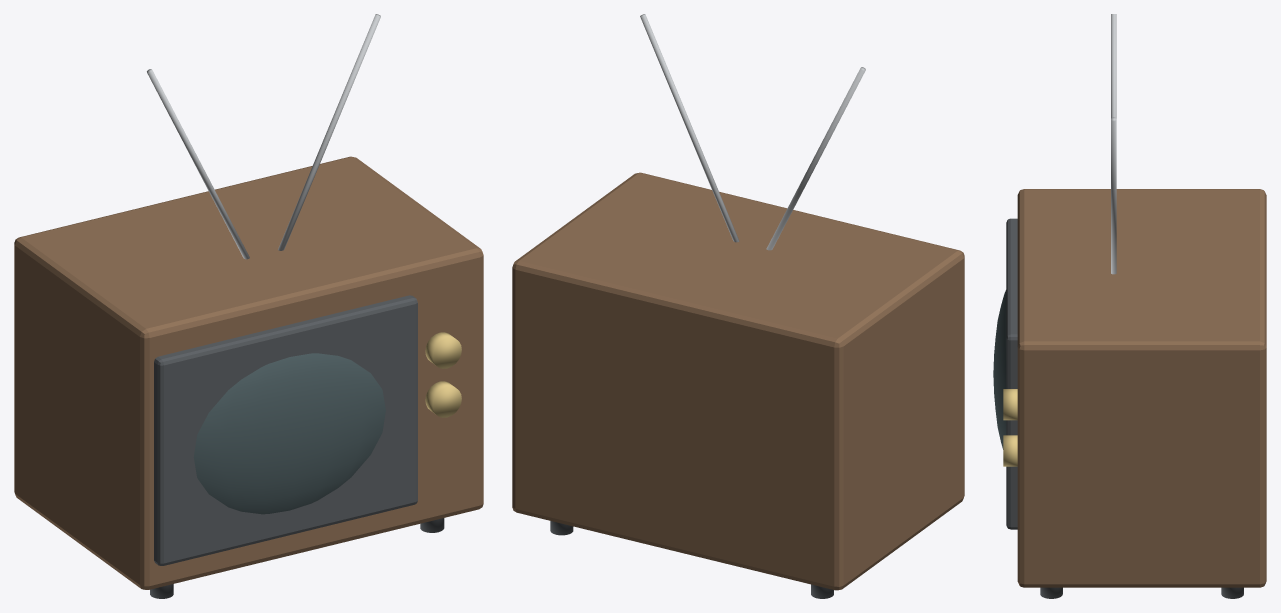
Rendered from tv_crt_console.glb.
3 views of the same model, side by side, from view 1: azimuth 30°, elevation 25°; view 2: azimuth 150°, elevation 25°; view 3: azimuth 270°, elevation 25° (orthographic). The views are drawn at different scales.
Visible parts, largest first — view 1: TVBody, TVBezel, CRTScreen, Antenna_1, Antenna_-1, Dial_0.27, Dial_0.36; view 2: TVBody, Antenna_1, Antenna_-1; view 3: TVBody, TVBezel, CRTScreen, Antenna_1, Antenna_-1, Dial_0.36, Dial_0.27.
Part boxes in pixels (<box>): TVBody: <box>14,156,483,589</box>; TVBezel: <box>154,295,417,565</box>; CRTScreen: <box>193,353,385,514</box>; Antenna_1: <box>278,14,380,250</box>; Antenna_-1: <box>147,69,249,259</box>; Dial_0.27: <box>425,381,461,417</box>; Dial_0.36: <box>425,332,461,368</box>; TVBody: <box>512,172,964,590</box>; Antenna_1: <box>640,14,739,242</box>; Antenna_-1: <box>766,67,865,250</box>; TVBody: <box>1017,189,1266,587</box>; TVBezel: <box>1006,218,1017,529</box>; CRTScreen: <box>993,290,1006,449</box>; Antenna_1: <box>1111,117,1116,274</box>; Antenna_-1: <box>1111,14,1116,118</box>; Dial_0.36: <box>1003,389,1017,420</box>; Dial_0.27: <box>1003,435,1017,466</box>.
Bounding box in the file's own units: 0.66 × 0.9093 × 0.4828.
